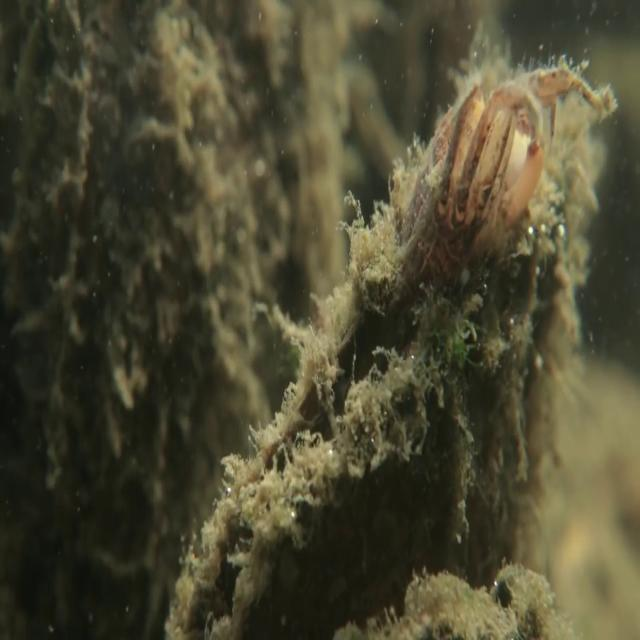Oyster-Open: (163, 68, 595, 634)
